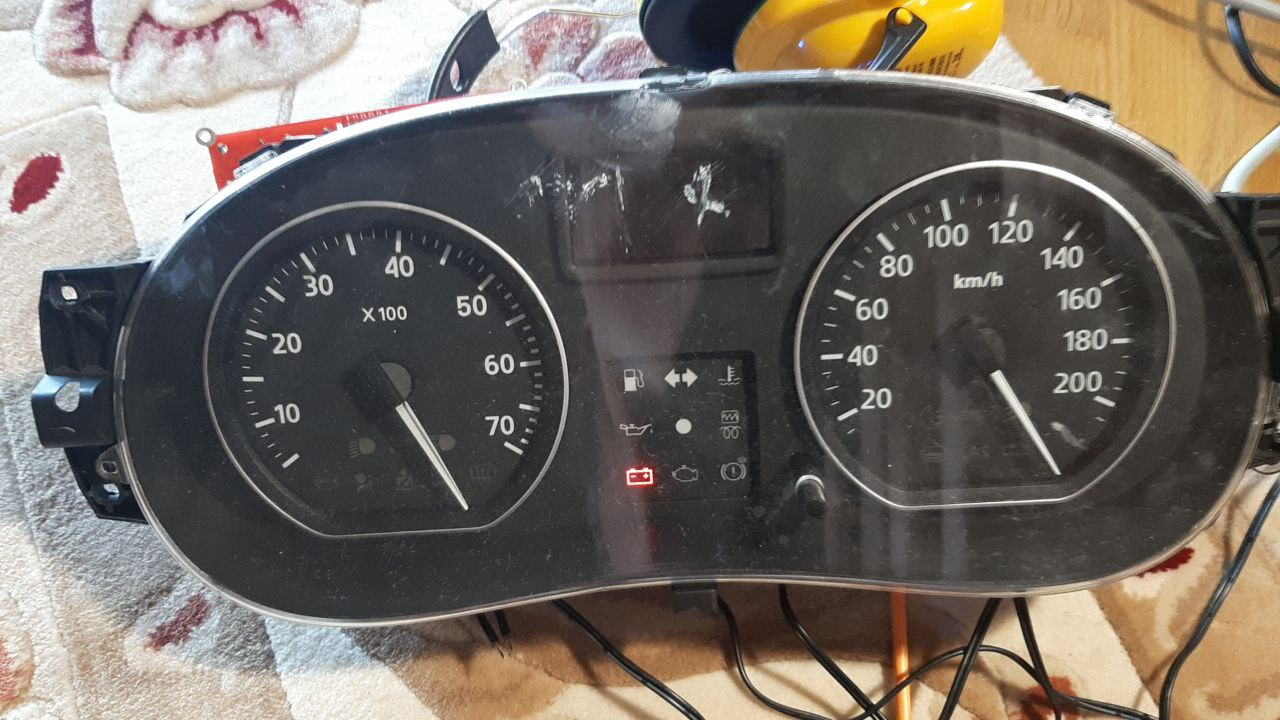accumulator: (623, 468, 658, 490)
